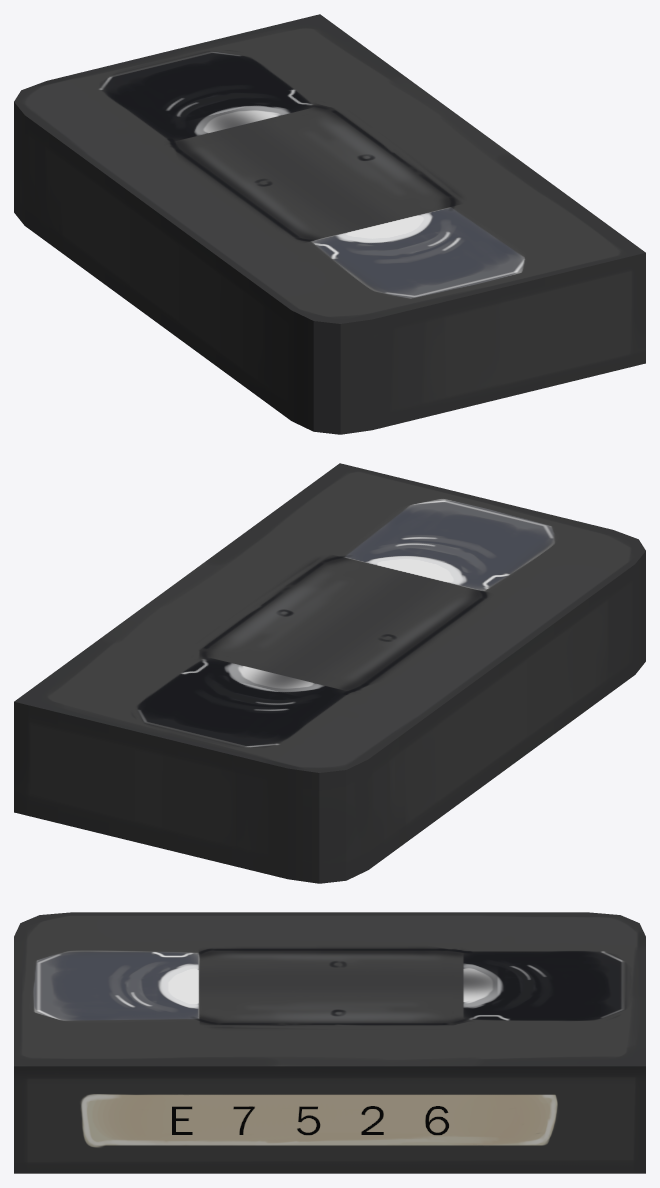
File: VHSTape_e7526.FBX
3 views of the same model, one above another, from view 1: azimuth 30°, elevation 25°; view 2: azimuth 150°, elevation 25°; view 3: azimuth 270°, elevation 25° (orthographic). The views are drawn at different scales.
Parts seen in each view (by area): view 1: tape001; view 2: tape001; view 3: tape001.
Part boxes in pixels (bbox=[...]): tape001: bbox=[14, 14, 645, 434]; tape001: bbox=[14, 463, 645, 883]; tape001: bbox=[14, 912, 645, 1173].
Size of the model in its own units: 11.66 by 3.8 by 20.25.
1 material, 1 textured.
